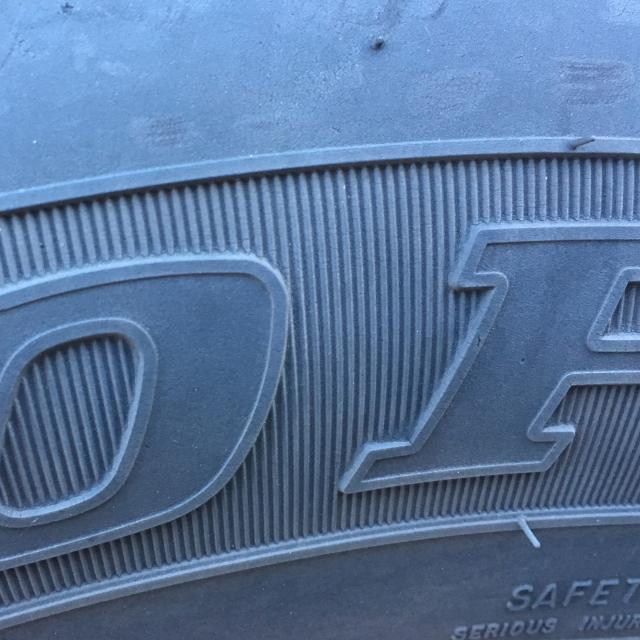Non-defective: (3, 0, 639, 640)
